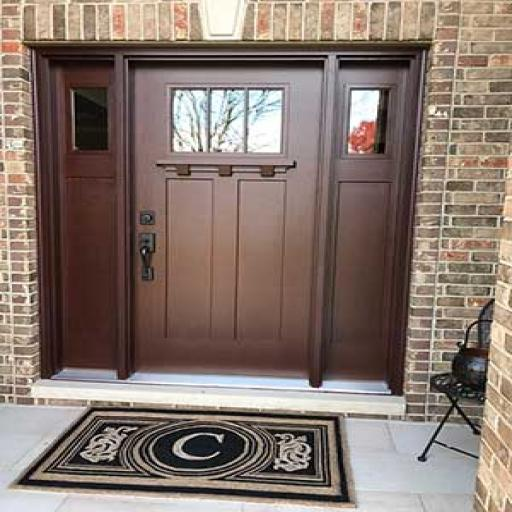Door: (128, 60, 321, 379)
